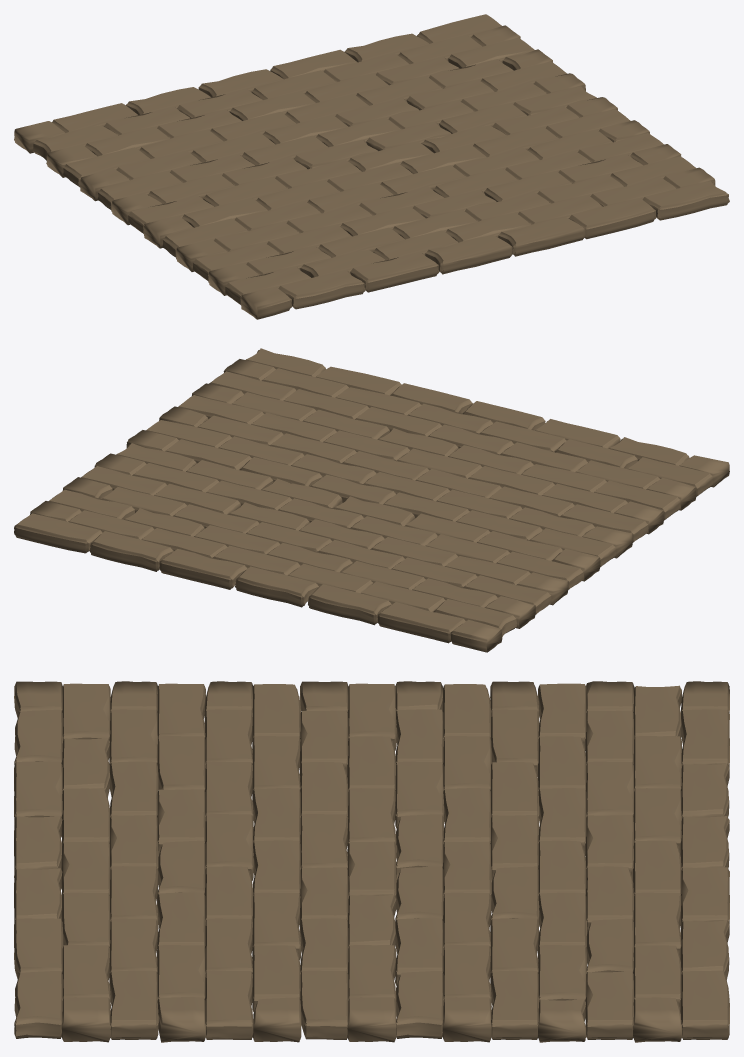
File: BrickFloor.2024.06.18.fbx
The picture shows the model from 3 angles, top to bottom: view 1: azimuth 30°, elevation 25°; view 2: azimuth 150°, elevation 25°; view 3: azimuth 270°, elevation 25°; orthographic projection. The views are drawn at different scales.
Visible parts, largest first — view 1: Plane.002; view 2: Plane.002; view 3: Plane.002.
Part boxes in pixels (bbox=[...]): Plane.002: bbox=[14, 14, 729, 319]; Plane.002: bbox=[14, 348, 729, 652]; Plane.002: bbox=[14, 681, 729, 1042].
Size of the model in its own units: 15.72 by 0.4555 by 13.94.
